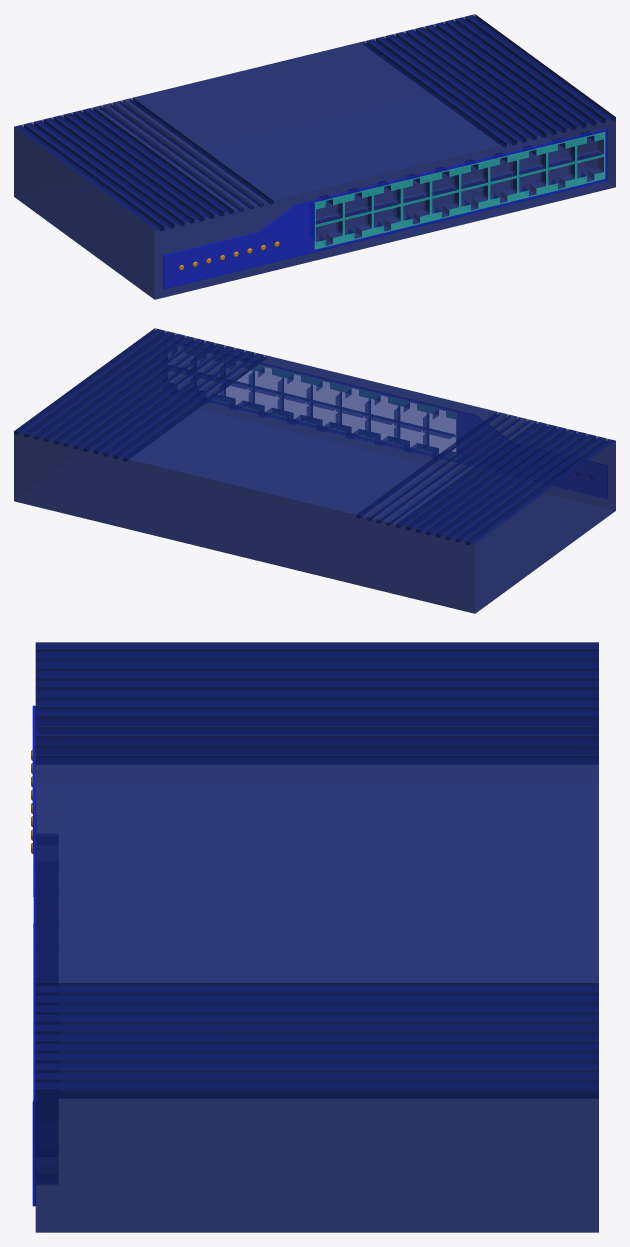
File: jiaohuanji.FBX
3 views of the same model, one above another, from view 1: azimuth 30°, elevation 25°; view 2: azimuth 150°, elevation 25°; view 3: azimuth 270°, elevation 25° (orthographic). The views are drawn at different scales.
Parts seen in each view (by area): view 1: Line016, 对象251, 对象252, 对象250, 对象249, 对象247; view 2: Line016, 对象251, 对象249; view 3: Line016, 对象251.
Boxes of the visible parts, x1,y1,x2,y2 form: Line016: (14, 14, 615, 299); 对象251: (163, 128, 607, 289); 对象252: (460, 132, 605, 190); 对象250: (460, 155, 605, 214); 对象249: (315, 167, 459, 225); 对象247: (315, 191, 459, 249); Line016: (14, 328, 615, 613); 对象251: (210, 363, 607, 498); 对象249: (312, 377, 456, 435); Line016: (35, 642, 598, 1232); 对象251: (32, 705, 36, 1206).
Bounding box in the file's own units: 953 × 138 × 508.
